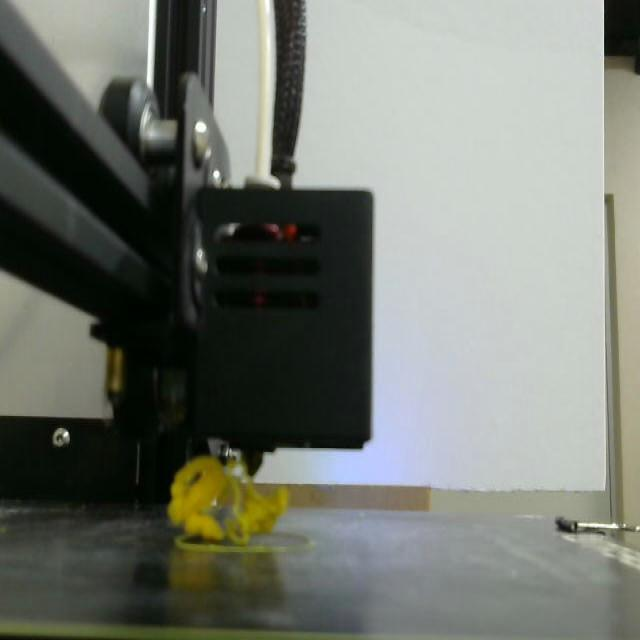spaghetti: (168, 455, 314, 553)
